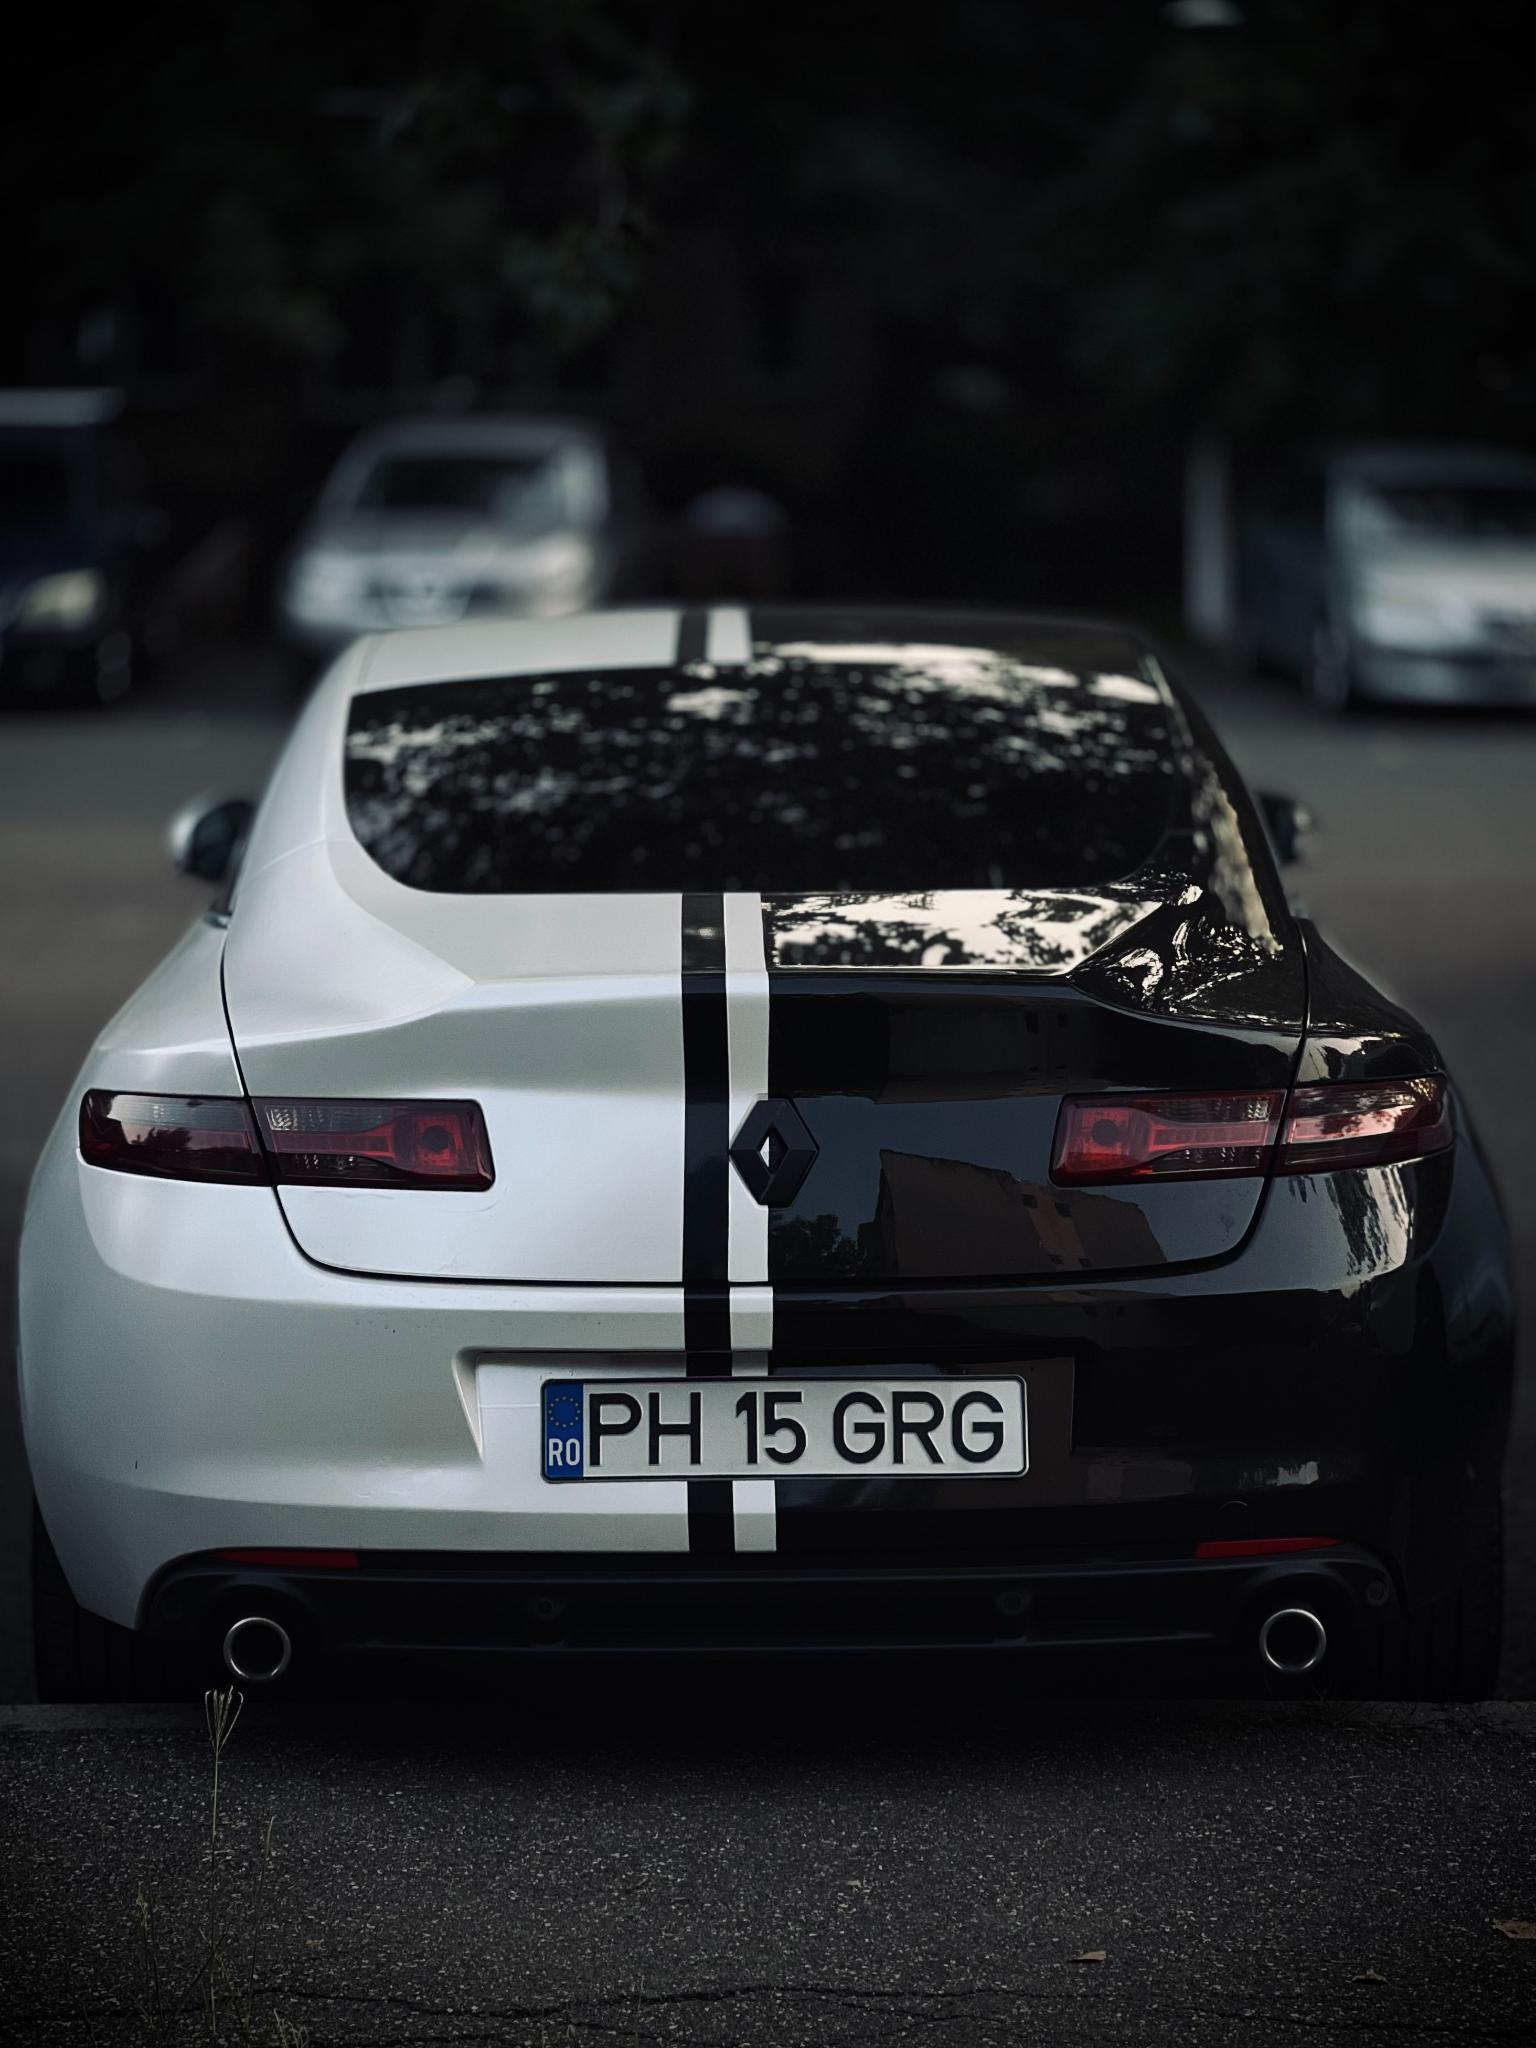Renault: (689, 1066, 854, 1238)
